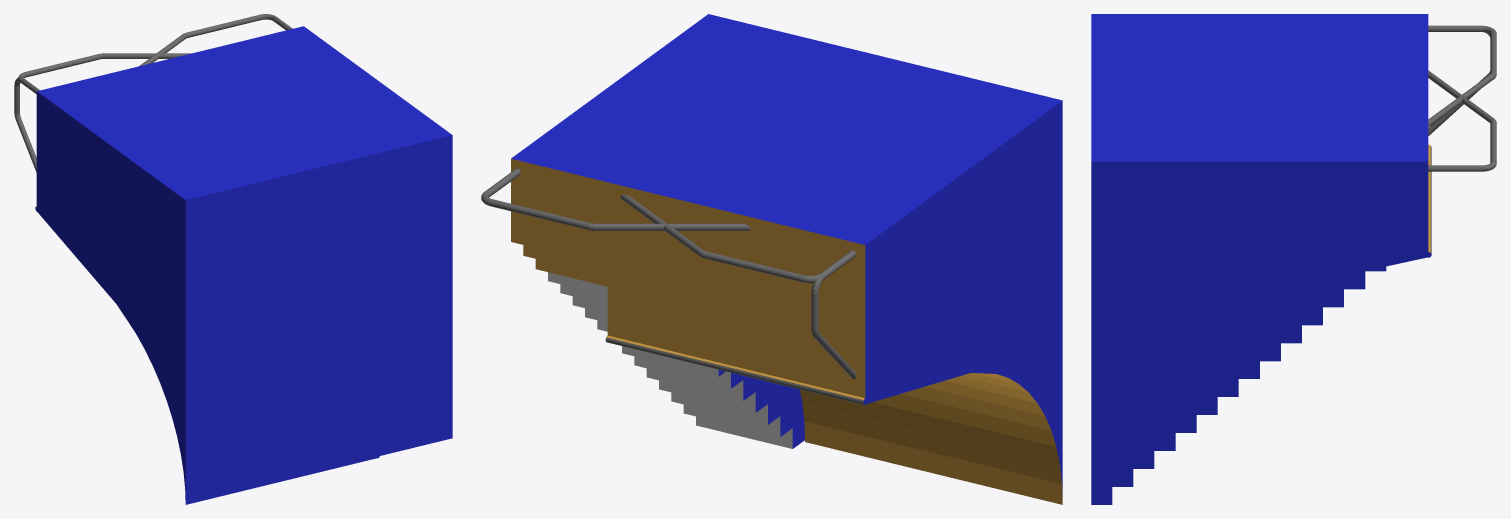
Rendered from Drop In Ramp W Railing W Stairs Left.fbx.
The picture shows the model from 3 angles, left to right: view 1: azimuth 30°, elevation 25°; view 2: azimuth 150°, elevation 25°; view 3: azimuth 270°, elevation 25°; orthographic projection. The views are drawn at different scales.
Parts seen in each view (by area): view 1: Drop In Ramp W Railing W Stairs Left; view 2: Drop In Ramp W Railing W Stairs Left; view 3: Drop In Ramp W Railing W Stairs Left.
Boxes of the visible parts, bbox=[...] form: Drop In Ramp W Railing W Stairs Left: bbox=[14, 14, 452, 504]; Drop In Ramp W Railing W Stairs Left: bbox=[481, 14, 1062, 504]; Drop In Ramp W Railing W Stairs Left: bbox=[1091, 14, 1496, 504].
Size of the model in its own units: 2200 by 2400 by 2555.
